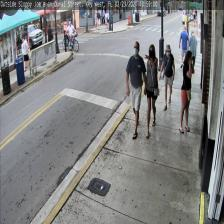person: (125, 41, 146, 139), (178, 51, 194, 133), (144, 44, 158, 137), (158, 44, 174, 109)
